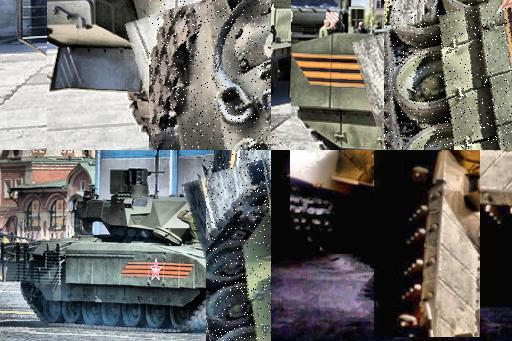tanks: (4, 171, 272, 333), (376, 151, 481, 338), (386, 1, 512, 151), (150, 1, 272, 151), (373, 151, 374, 154)
